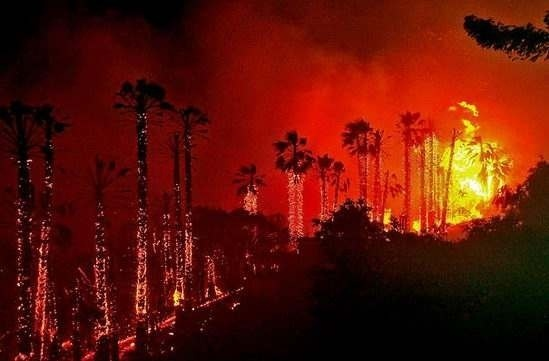fire: (3, 210, 233, 359), (422, 100, 511, 227), (408, 215, 422, 233), (380, 207, 392, 226)
